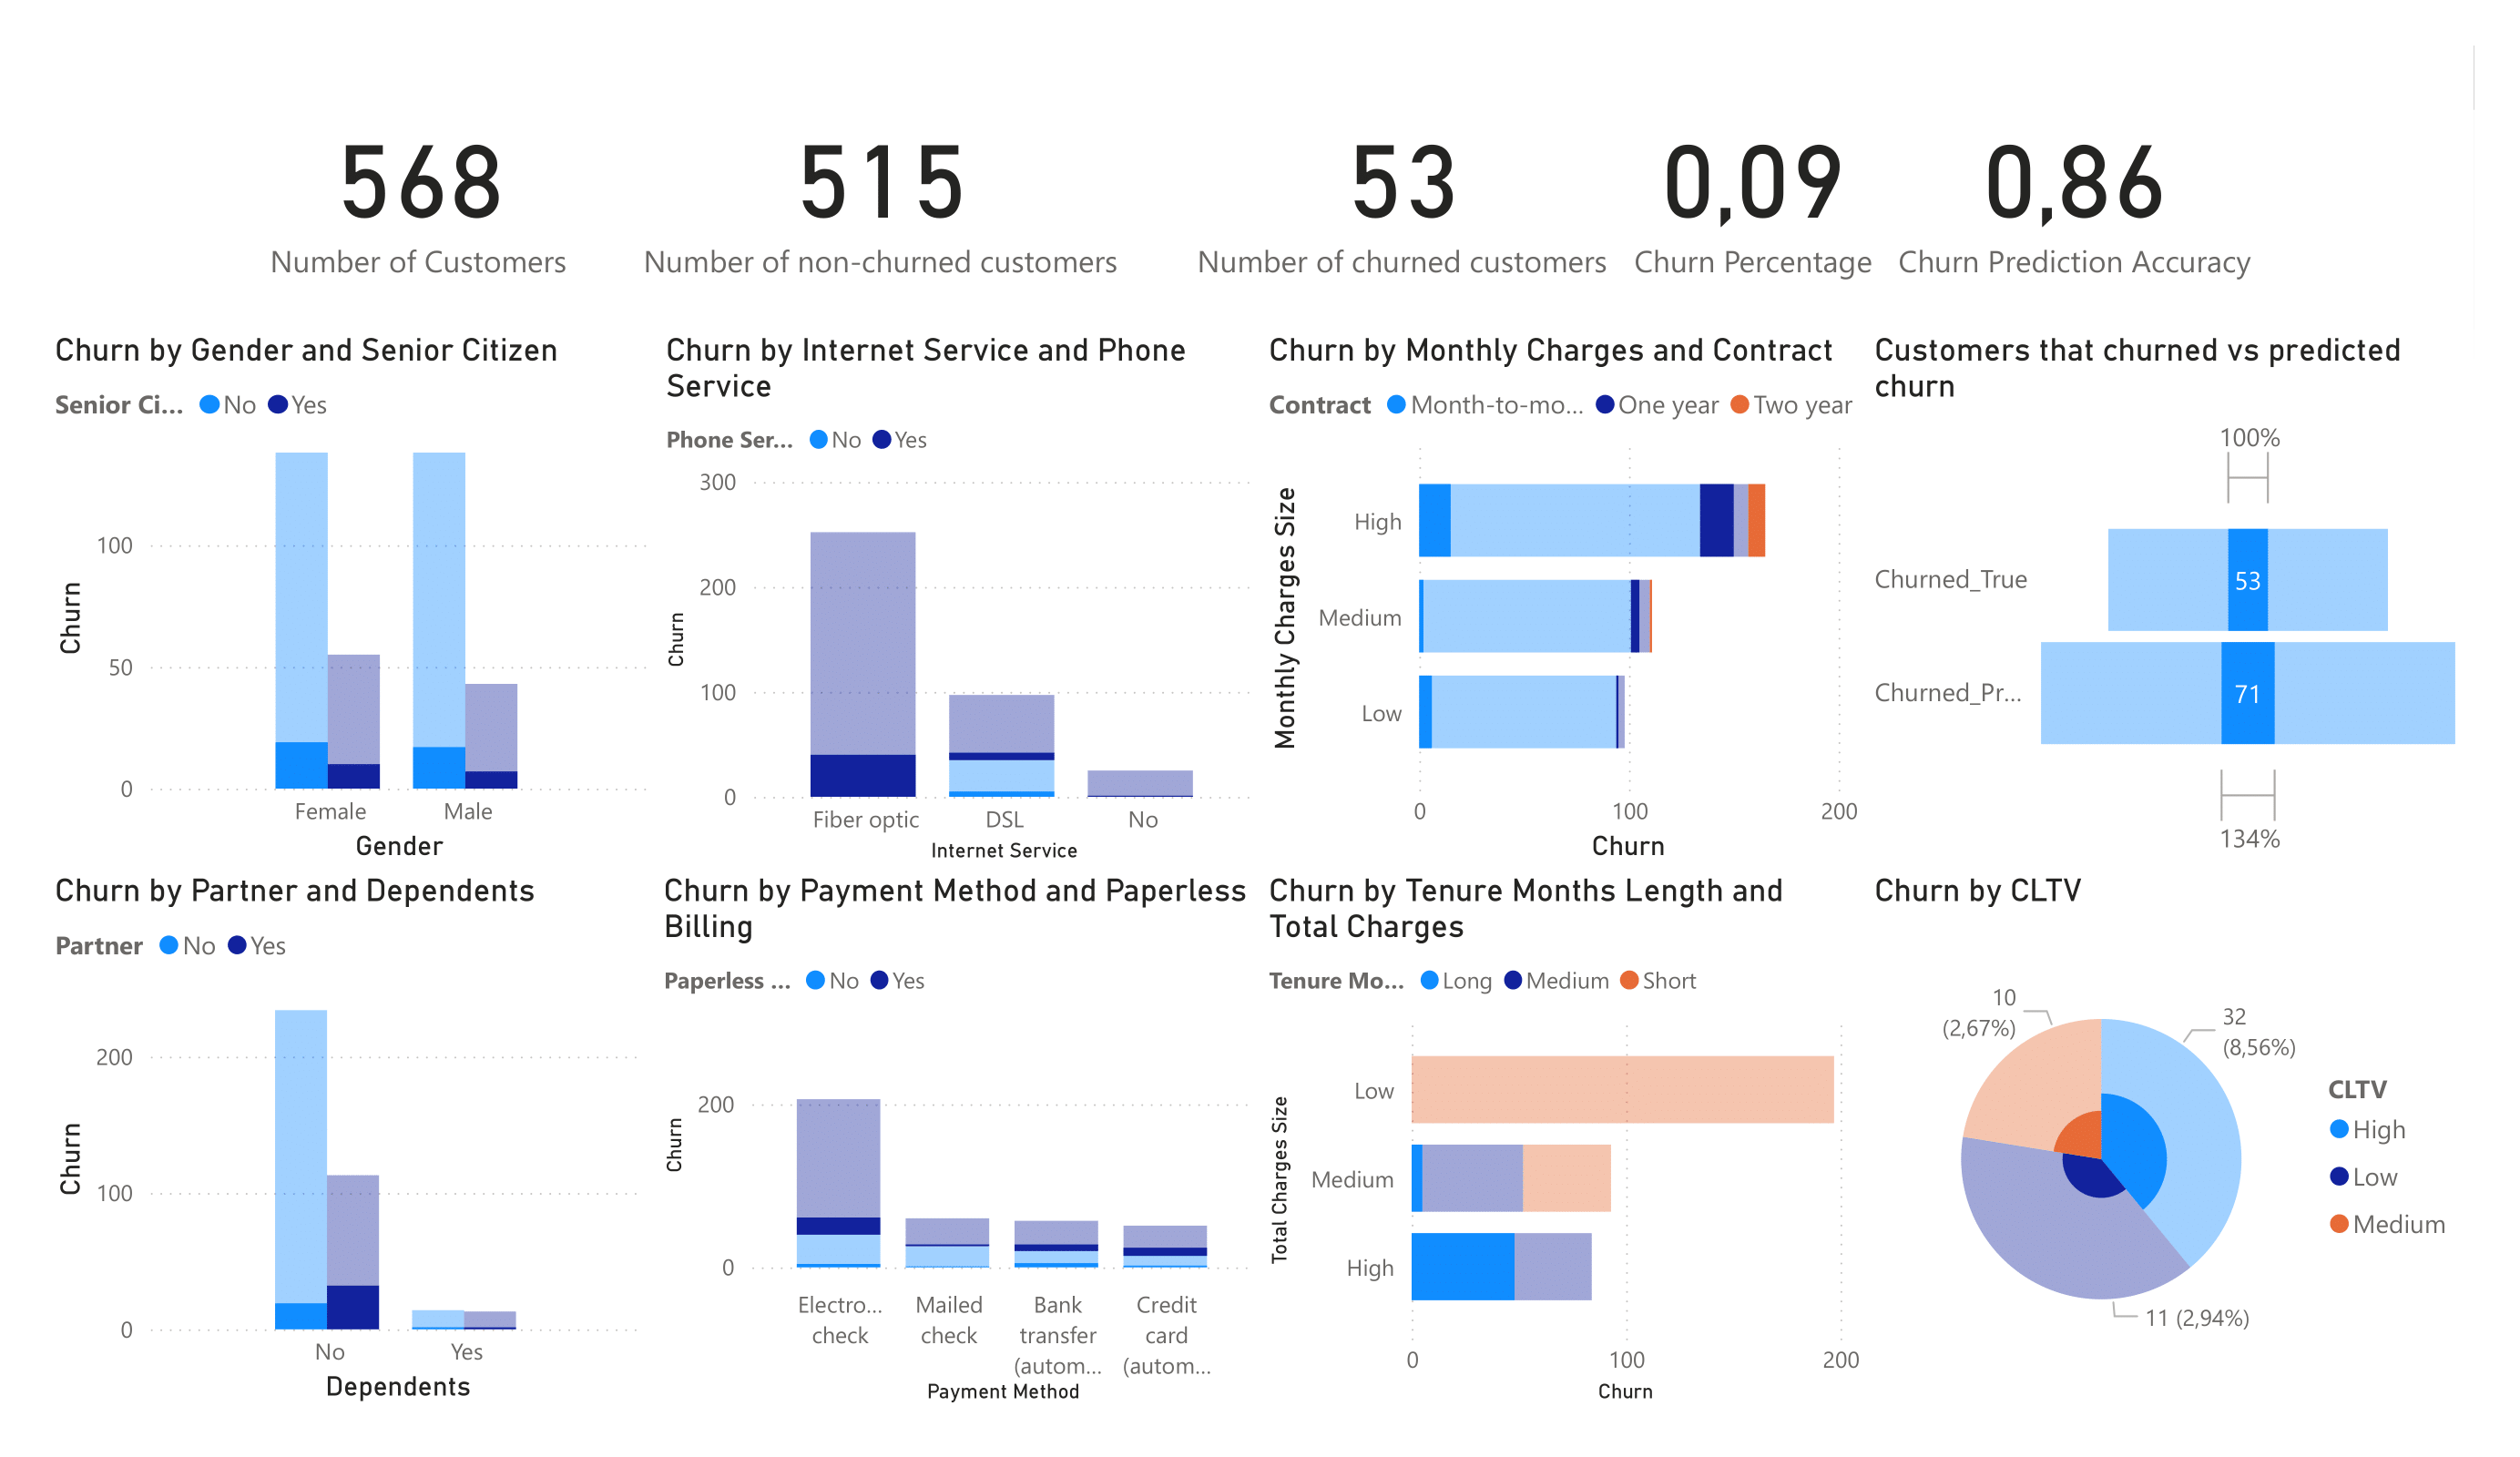

The page's visual inventory and layout, read from the dashboard file:
{"tool":"powerbi","page":{"name":"Side 1","canvas":[1280,720],"ordinal":0},"visuals":[{"type":"card","fields":{"Values":["Avg(Forespørgsel1.y_true)"]},"box":[829.7,0,140.1,149.8],"z":0},{"type":"pieChart","title":"Churn by CLTV","fields":{"Y":["Sum(Attributes.y_true)"],"Category":["Attributes.CLTV Size"]},"box":[959,434.8,321,285],"z":1000},{"type":"card","fields":{"Values":["Attributes.Churn Prediction Accuracy"]},"box":[969.7,0,199.4,149.8],"z":2000},{"type":"barChart","title":"Churn by Tenure Months Length and Total Charges","fields":{"Category":["Attributes.Total Charges Size"],"Series":["Attributes.Tenure Months Length"],"Y":["Sum(Attributes.y_true)"]},"box":[640,434.8,321,285],"z":3000},{"type":"barChart","title":"Churn by Monthly Charges and Contract","fields":{"Category":["Attributes.Monthly Charges Size"],"Y":["Sum(Attributes.y_true)"],"Series":["Attributes.Contract"]},"box":[640,149.8,320,285],"z":4000},{"type":"columnChart","title":"Churn by Payment Method and Paperless Billing","fields":{"Category":["Attributes.Payment Method"],"Y":["Sum(Attributes.y_true)"],"Series":["Attributes.Paperless Billing"]},"box":[321,434.8,321,285],"z":5000},{"type":"columnChart","title":"Churn by Internet Service and Phone Service","fields":{"Category":["Attributes.Internet Service"],"Y":["Sum(Attributes.y_true)"],"Series":["Attributes.Phone Service"]},"box":[321.9,149.8,320,285],"z":6000},{"type":"clusteredColumnChart","title":"Churn by Partner and Dependents","fields":{"Category":["Attributes.Dependents"],"Series":["Attributes.Partner"],"Y":["Sum(Attributes.y_true)"]},"box":[0,434.8,321,285],"z":7000},{"type":"clusteredColumnChart","title":"Churn by Gender and Senior Citizen","fields":{"Category":["Attributes.Gender"],"Series":["Attributes.Senior Citizen"],"Y":["Sum(Attributes.y_true)"]},"box":[0,149.8,321.9,285],"z":8000},{"type":"funnel","title":"Customers that churned vs predicted churn","fields":{"Y":["Sum(Attributes.y_true)","Sum(Attributes.y_pred)"]},"box":[959,149.8,321,285],"z":9000},{"type":"card","fields":{"Values":["CountNonNull(Attributes.y_true)"]},"box":[110.9,0,171.2,149.8],"z":10000},{"type":"card","fields":{"Values":["CountNonNull(Attributes.y_true)"]},"box":[600.1,0,229.5,149.8],"z":11000},{"type":"card","fields":{"Values":["CountNonNull(Attributes.y_true)"]},"box":[280.1,0,320,149.8],"z":12000}]}

Visuals, with their boxes in screenshot pixels (x1, y1, x2, y2):
card - Avg(Forespørgsel1.y_true): 1757/66/2020/346
"Churn by CLTV" pieChart: 1999/880/2519/1413
card - Attributes.Churn Prediction Accuracy: 2019/66/2392/346
"Churn by Tenure Months Length and Total Charges" barChart: 1402/880/2003/1413
"Churn by Monthly Charges and Contract" barChart: 1402/346/2001/880
"Churn by Payment Method and Paperless Billing" columnChart: 804/880/1405/1413
"Churn by Internet Service and Phone Service" columnChart: 806/346/1405/880
"Churn by Partner and Dependents" clusteredColumnChart: 203/880/804/1413
"Churn by Gender and Senior Citizen" clusteredColumnChart: 203/346/806/880
"Customers that churned vs predicted churn" funnel: 1999/346/2519/880
card - CountNonNull(Attributes.y_true): 411/66/731/346
card - CountNonNull(Attributes.y_true): 1327/66/1757/346
card - CountNonNull(Attributes.y_true): 728/66/1327/346
